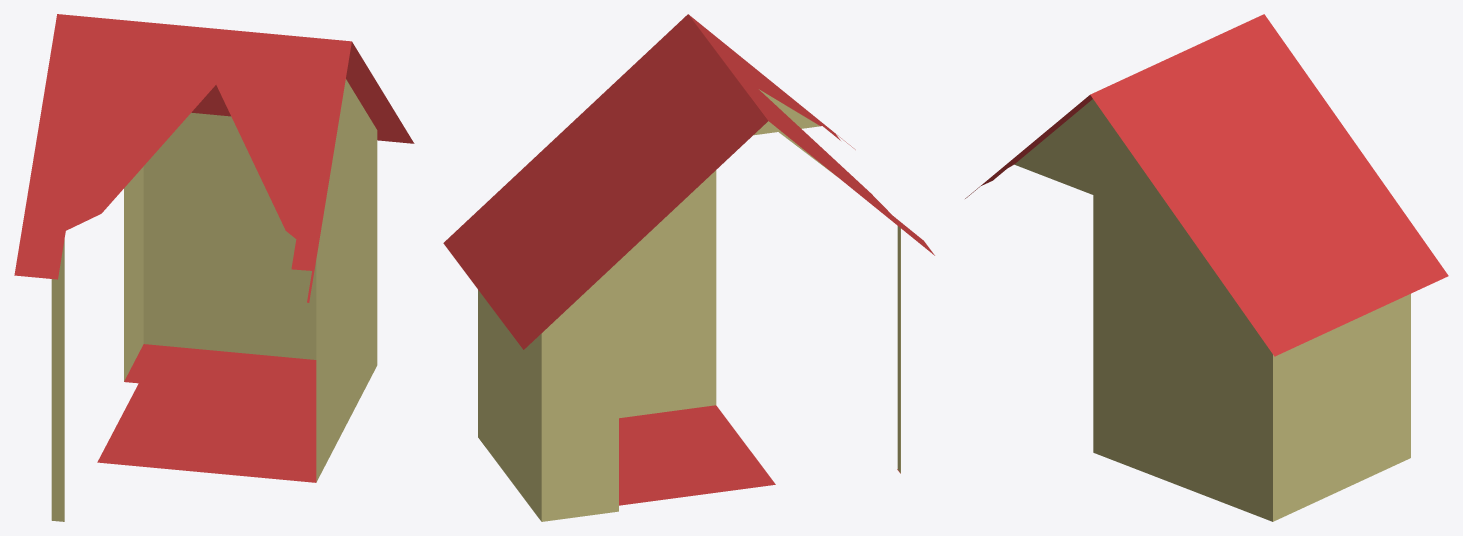
3 views of the same model, side by side, from view 1: azimuth 30°, elevation 25°; view 2: azimuth 150°, elevation 25°; view 3: azimuth 270°, elevation 25° (orthographic). The views are drawn at different scales.
Size of the model in its own units: 17.65 by 18.04 by 15.28.
